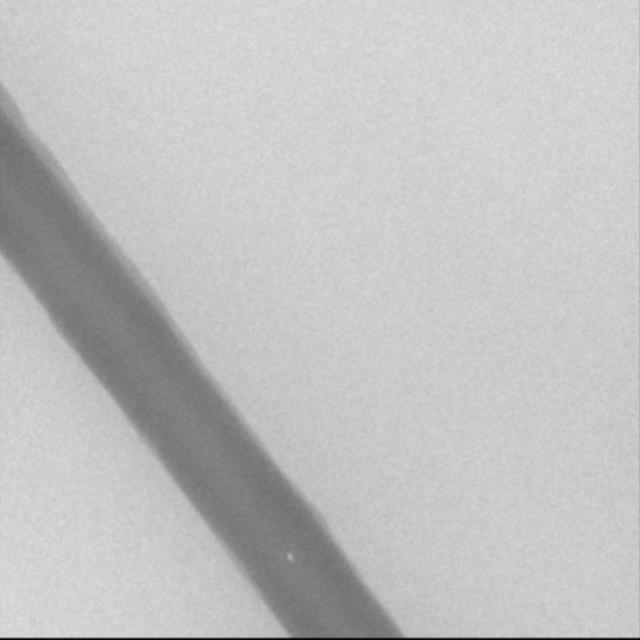air hole: (285, 550, 293, 561)
